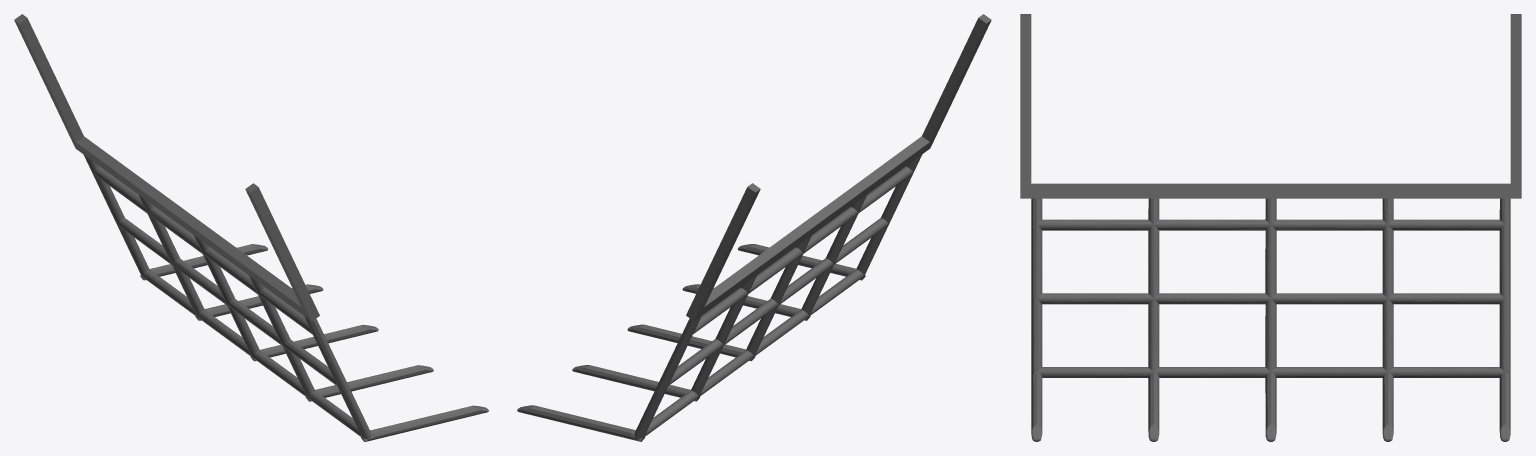
File: rake.fbx
The picture shows the model from 3 angles, left to right: view 1: azimuth 30°, elevation 25°; view 2: azimuth 150°, elevation 25°; view 3: azimuth 270°, elevation 25°; orthographic projection. The views are drawn at different scales.
Visible parts, largest first — view 1: Cube.003; view 2: Cube.003; view 3: Cube.003.
Boxes of the visible parts, x1=… form: Cube.003: x1=14, y1=14, x2=488, y2=441; Cube.003: x1=517, y1=14, x2=991, y2=441; Cube.003: x1=1020, y1=14, x2=1521, y2=441.
Size of the model in its own units: 8141 by 9152 by 13600.
1 material, 1 textured.
